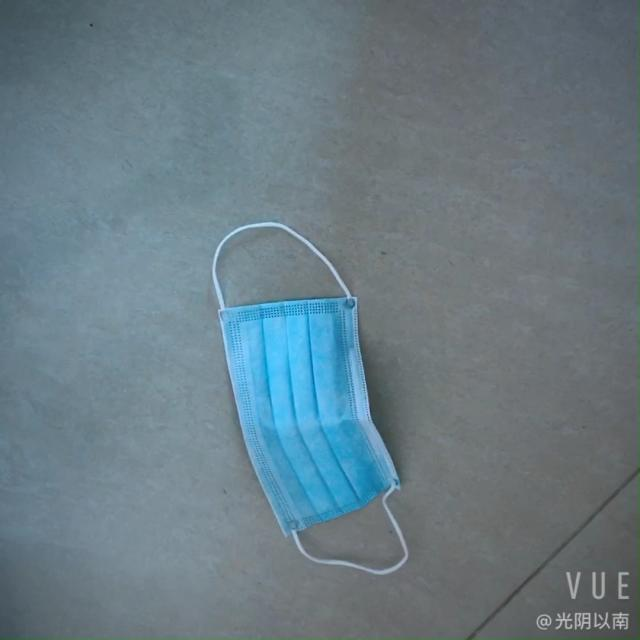non-organic waste: (220, 223, 415, 579)
